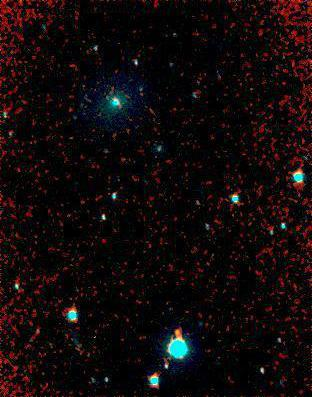star: (162, 322, 192, 352)
